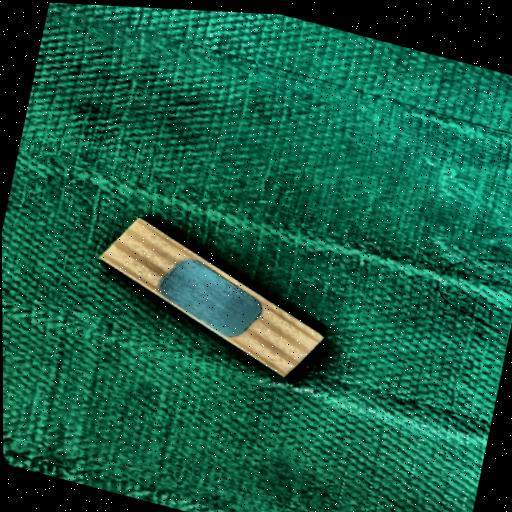objects: (98, 211, 323, 384)
